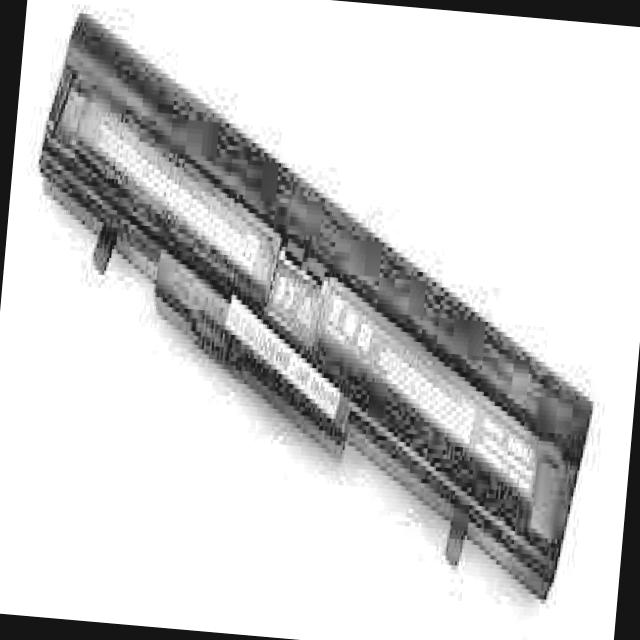Battery: (4, 15, 624, 585)
